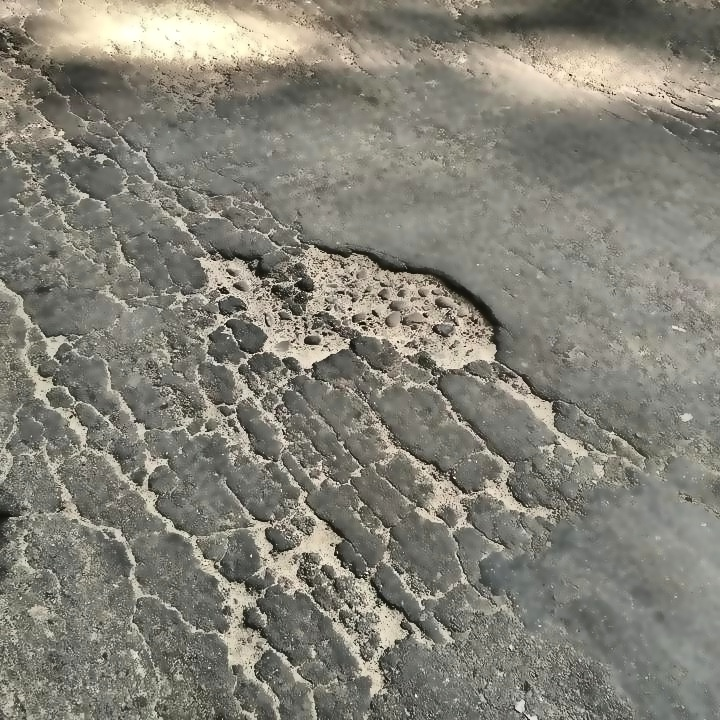pothole: (196, 239, 508, 377)
